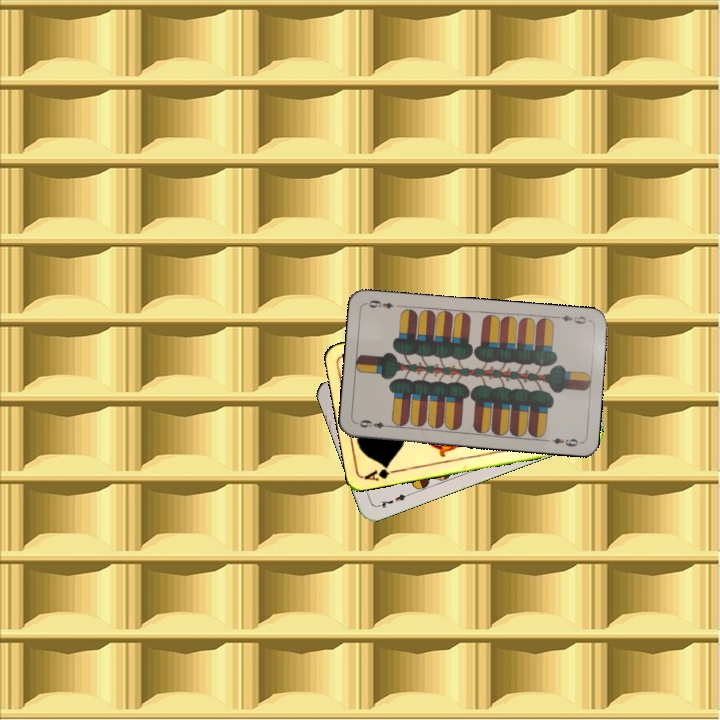E7: (373, 490, 412, 510)
E9: (551, 311, 592, 327), (355, 416, 394, 431)
GA: (361, 461, 401, 483)
